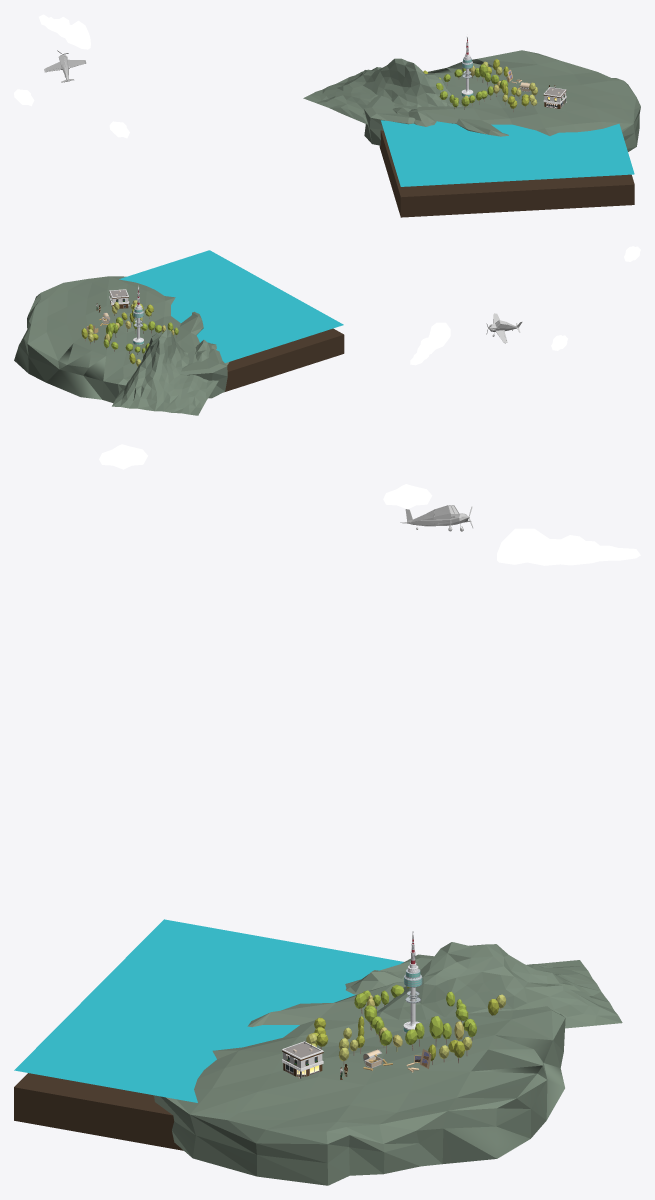
Rendered from Country_Korea.glb.
3 renders of one model, top to bottom at view 1: azimuth 30°, elevation 25°; view 2: azimuth 150°, elevation 25°; view 3: azimuth 270°, elevation 25°, orthographic. The views are drawn at different scales.
Visible parts, largest first — view 1: tile-water.003, country, terrain-mountains.002, tile-water.001, cloud-long.001, foodBox, newsBox; view 2: country, tile-water.003, tile-water.001, terrain-mountains.002, cloud-long.001, newsBox, foodBox; view 3: country, tile-water.003, tile-water.001, terrain-mountains.002, cloud-long.001, foodBox.
Boxes of the visible parts, x1=… form: tile-water.003: x1=379, y1=120, x2=634, y2=216; country: x1=44, y1=50, x2=640, y2=151; terrain-mountains.002: x1=303, y1=58, x2=462, y2=126; tile-water.001: x1=381, y1=136, x2=537, y2=217; cloud-long.001: x1=39, y1=14, x2=90, y2=49; foodBox: x1=543, y1=87, x2=566, y2=108; newsBox: x1=461, y1=35, x2=473, y2=97; country: x1=14, y1=276, x2=522, y2=403; tile-water.003: x1=119, y1=250, x2=344, y2=392; tile-water.001: x1=126, y1=250, x2=343, y2=362; terrain-mountains.002: x1=112, y1=329, x2=229, y2=415; cloud-long.001: x1=410, y1=322, x2=450, y2=365; newsBox: x1=133, y1=286, x2=143, y2=344; foodBox: x1=109, y1=289, x2=129, y2=308; country: x1=154, y1=505, x2=565, y2=1185; tile-water.003: x1=14, y1=920, x2=403, y2=1150; tile-water.001: x1=14, y1=919, x2=367, y2=1148; terrain-mountains.002: x1=345, y1=942, x2=622, y2=1028; cloud-long.001: x1=497, y1=528, x2=640, y2=565; foodBox: x1=282, y1=1041, x2=323, y2=1078.
Bounding box in the file's own units: 6.46 × 1.84 × 3.63.
